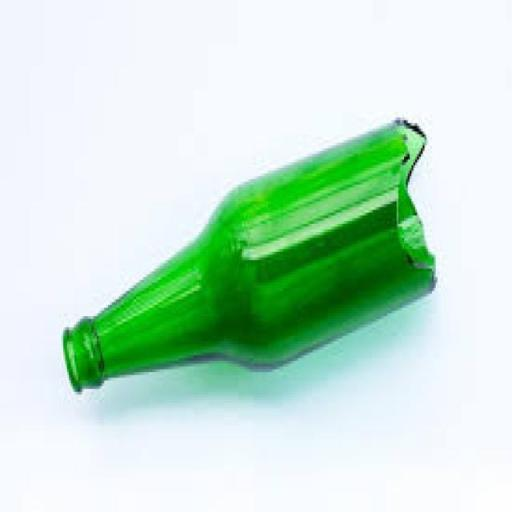glass: (11, 104, 469, 458)
